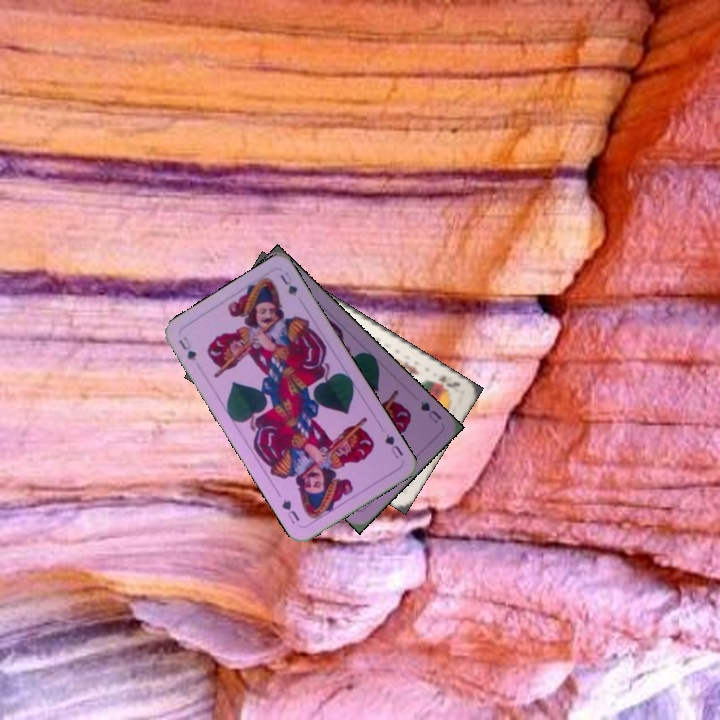GU: (416, 397, 445, 426), (380, 430, 406, 461), (175, 332, 199, 364)
SK: (427, 371, 463, 393)
